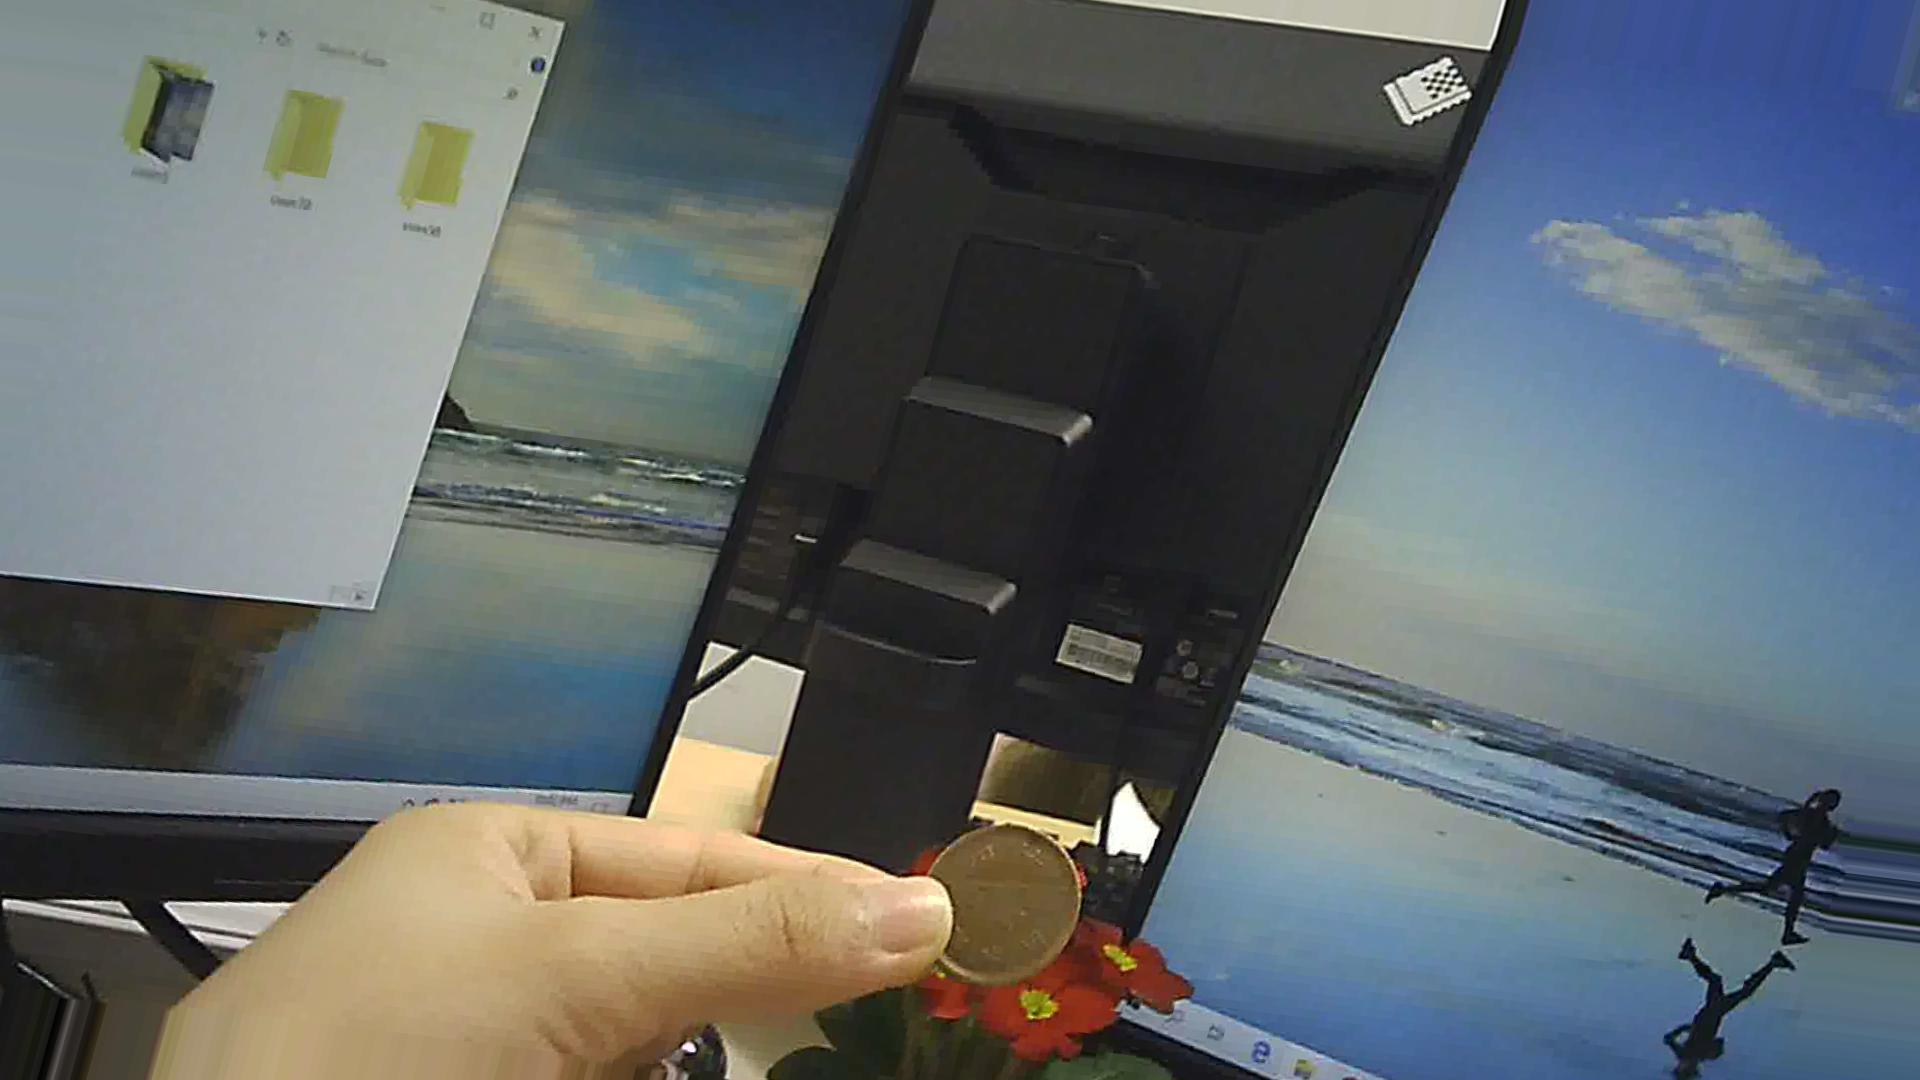10 Yen: (911, 818, 1068, 971)
